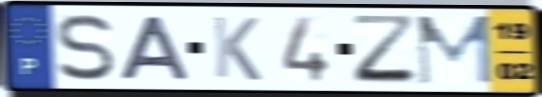4: (279, 14, 334, 85)
A: (116, 13, 195, 82)
K: (209, 14, 264, 83)
M: (413, 13, 495, 88)
S: (54, 12, 117, 83)
Z: (348, 13, 421, 87)
